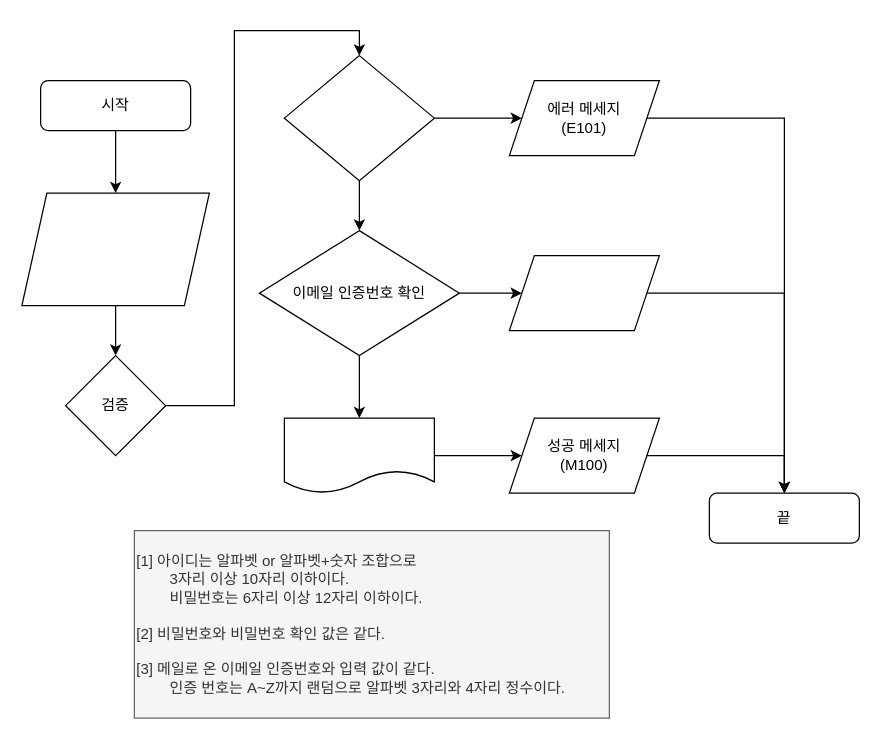
The diagram is 881 pixels wide and 740 high, and some of its shapes have lost their labels. Each missing label, with the centre of its shape:
비밀번호 확인: [358,117]
아이디 비밀번호 이메일 핸드폰번호 주소: [115,249]
에러 메세지 (E102): [583,292]
현재 가입 시간: [358,455]
